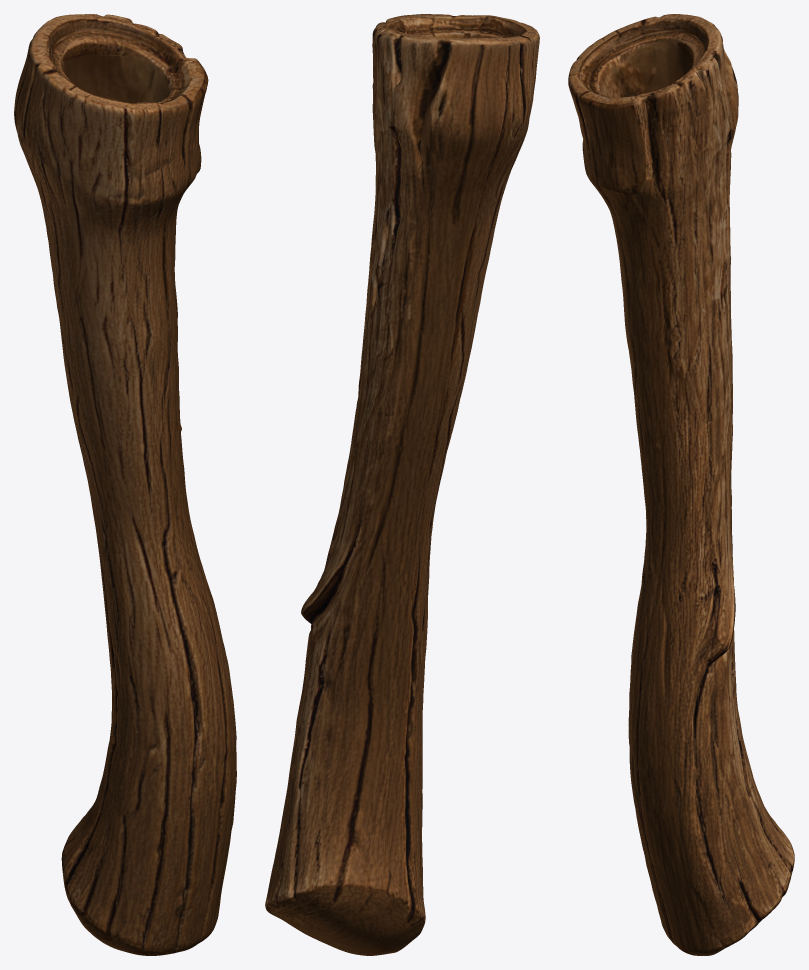
The model's file is TRONCO.fbx.
3 views of the same model, side by side, from view 1: azimuth 30°, elevation 25°; view 2: azimuth 150°, elevation 25°; view 3: azimuth 270°, elevation 25° (orthographic). The views are drawn at different scales.
Visible parts, largest first — view 1: Object_01; view 2: Object_01; view 3: Object_01.
Boxes of the visible parts, x1,y1,x2,y2 form: Object_01: [14, 14, 236, 955]; Object_01: [265, 14, 539, 955]; Object_01: [568, 14, 794, 955].
Bounding box in the file's own units: 24.43 × 100 × 23.5.
